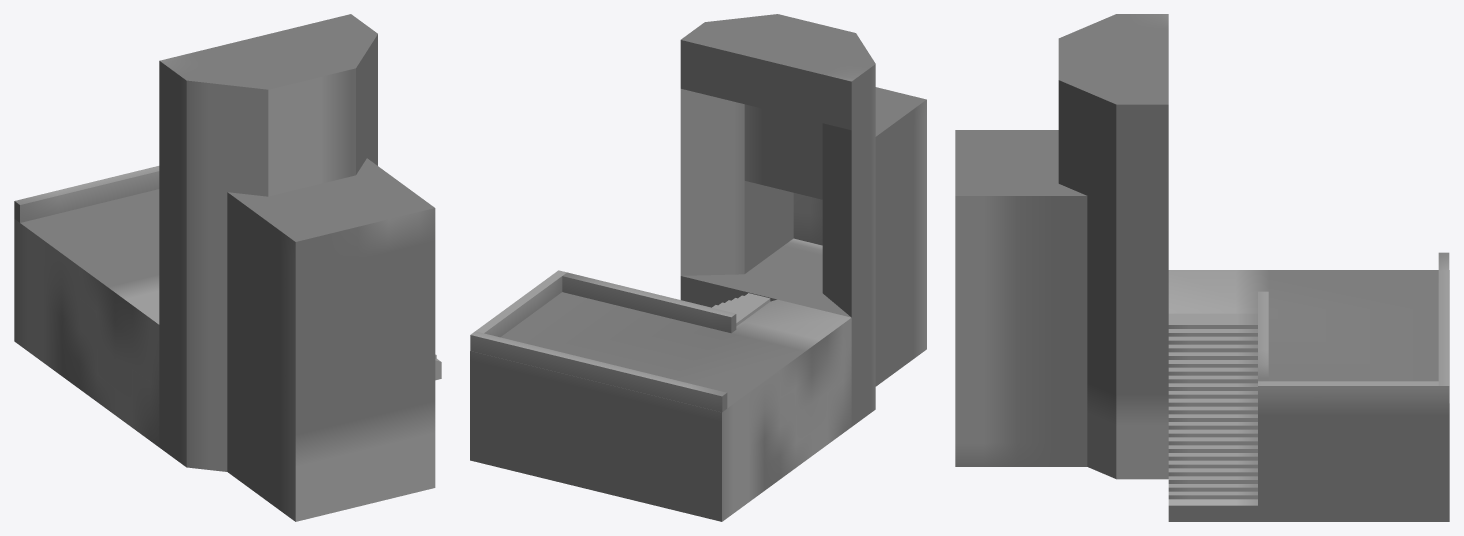
The model's file is Balcony_EWM.fbx.
3 renders of one model, left to right at view 1: azimuth 30°, elevation 25°; view 2: azimuth 150°, elevation 25°; view 3: azimuth 270°, elevation 25°, orthographic. The views are drawn at different scales.
Visible parts, largest first — view 1: Balcony_EWM; view 2: Balcony_EWM; view 3: Balcony_EWM.
Part boxes in pixels (x1,y1,x2,y2): Balcony_EWM: (14, 14, 441, 521); Balcony_EWM: (470, 14, 926, 521); Balcony_EWM: (955, 14, 1449, 521).
Size of the model in its own units: 1452 by 1904 by 2276.
